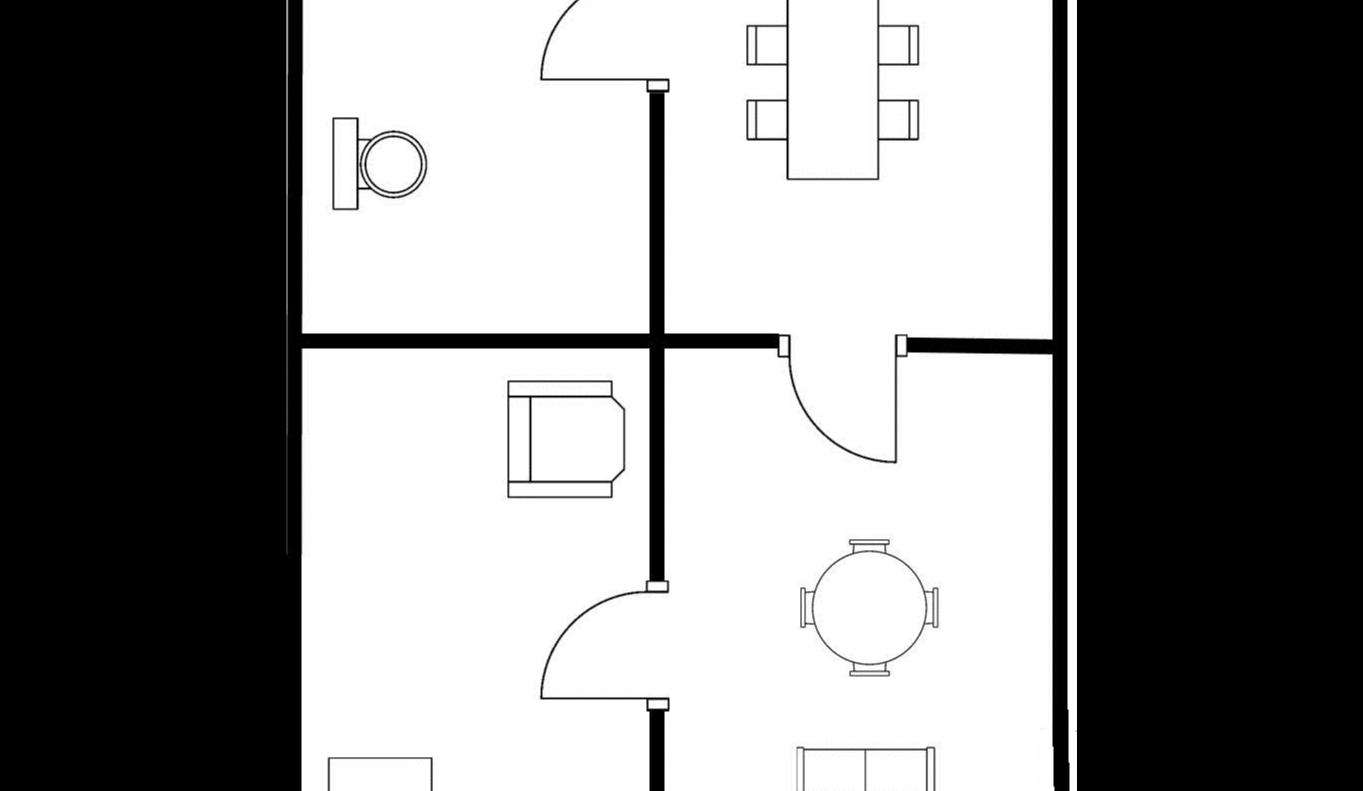bed: (322, 752, 438, 791)
dining_table: (743, 0, 925, 188)
round_table: (794, 535, 945, 682)
sofa: (790, 742, 942, 791)
toilet: (324, 108, 434, 219)
